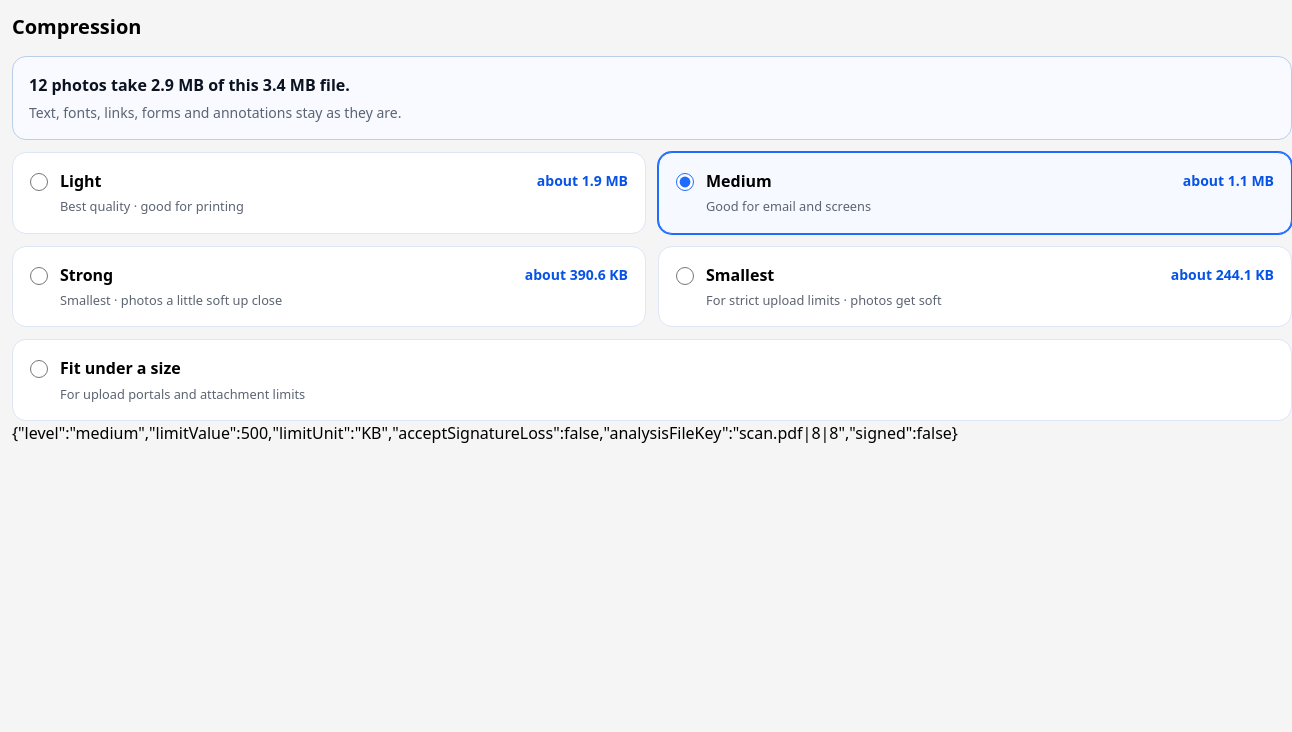
CompressOptions › offers Fit presets, custom validation and the gentlest recommendation
This screenshot has width=1292, height=732.
Expected: the text "about 1.1 MB" is shown, [1183,170,1274,191]
Click the radio button labelled "Fit under a size For upload portals and attachment limits" at (39, 370), box [30,360,48,378]
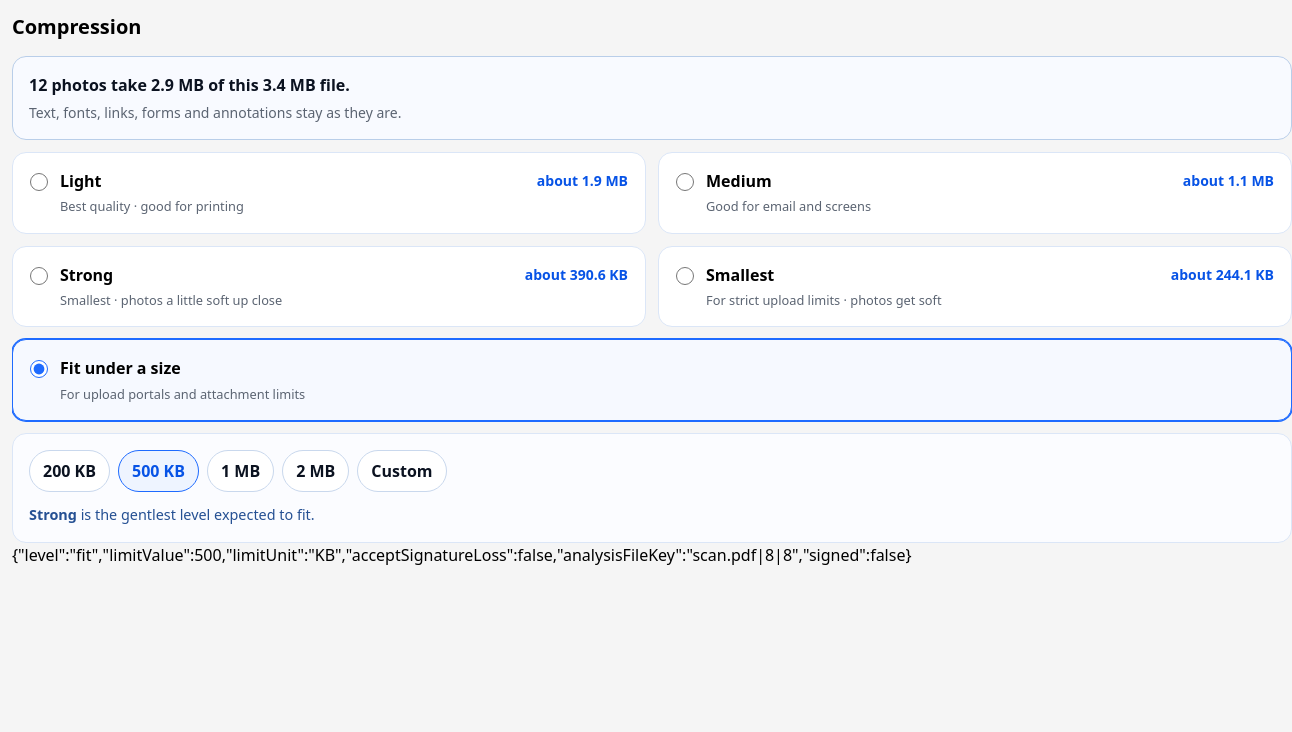
Expected: the button "200 KB" is shown, [29,450,110,492]
Expected: the button "500 KB" is shown, [118,450,199,492]
Expected: the button "1 MB" is shown, [207,450,274,492]
Click the button "Custom" at (402, 471), box [357,450,446,492]
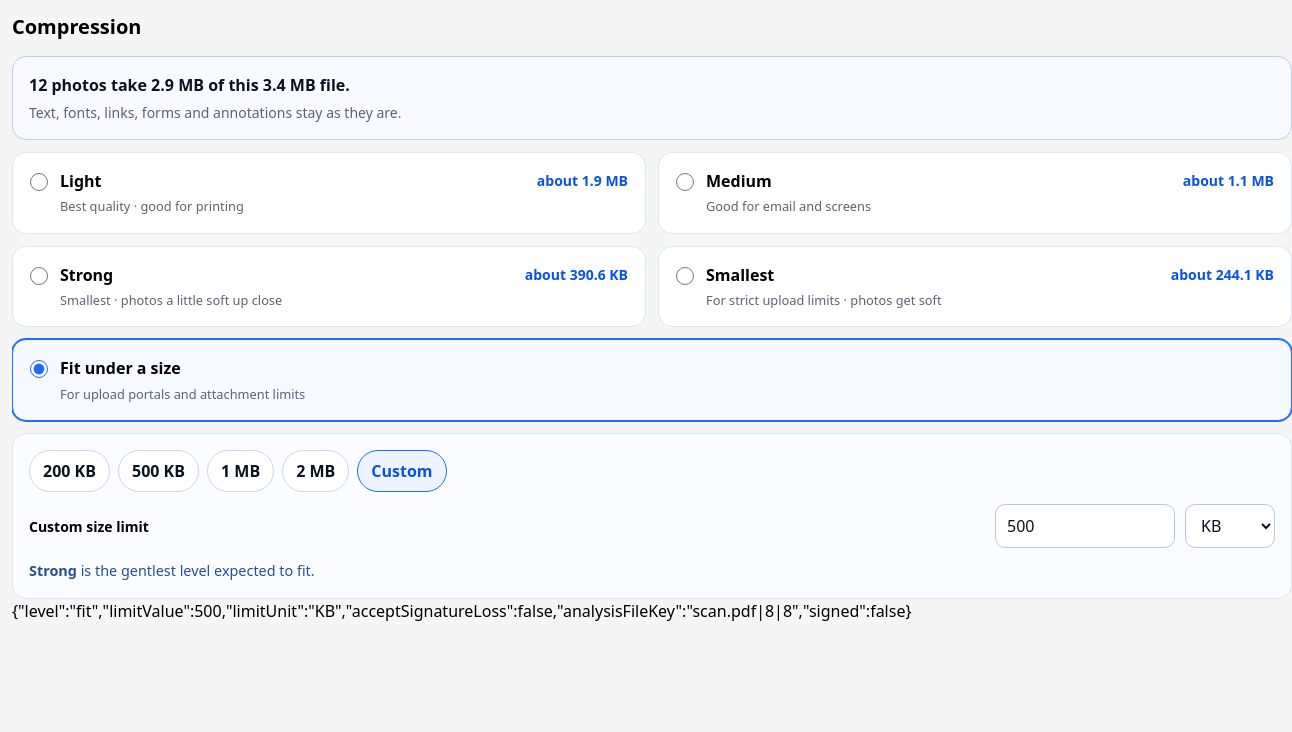
Replace the text in the number field labelled "Custom size limit" with "10" at (1085, 526), box [995,504,1175,548]
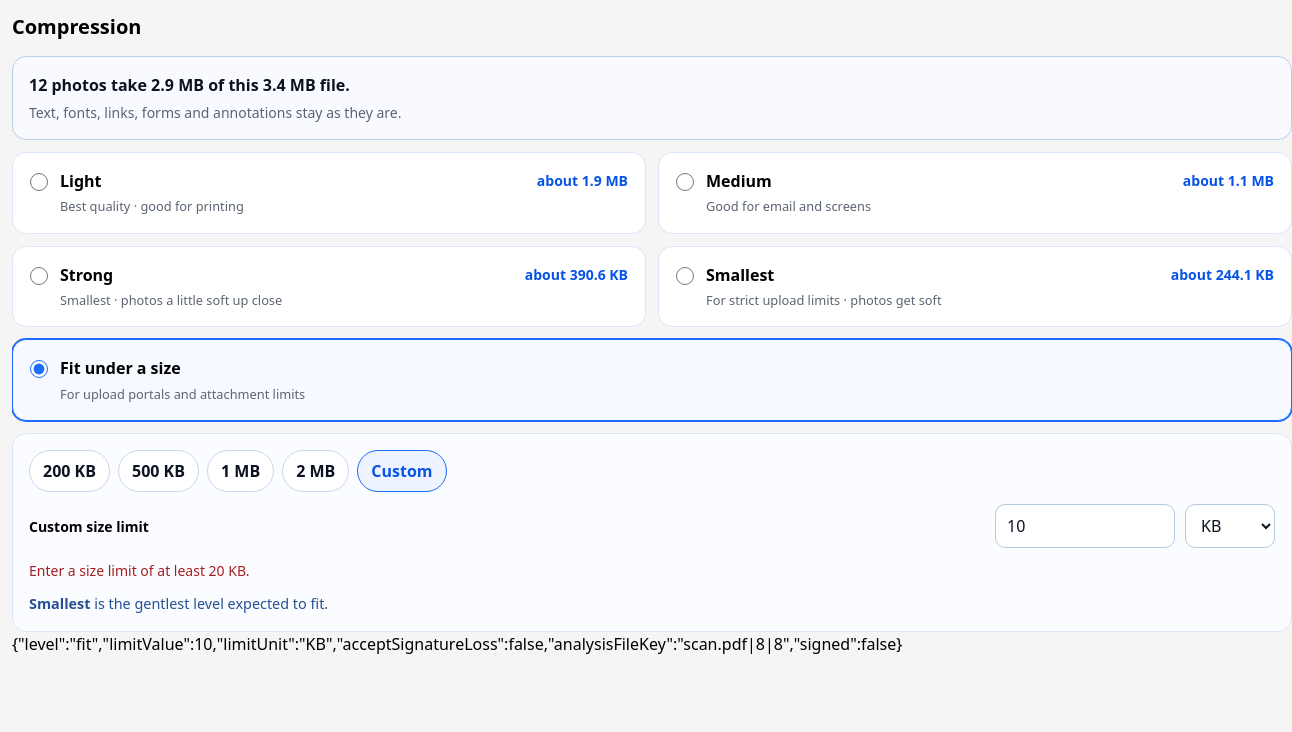
Expected: the message "Enter a size limit of at least 20 KB." is shown, [29,561,250,580]
Replace the text in the number field labelled "Custom size limit" with "600" at (1085, 526), box [995,504,1175,548]
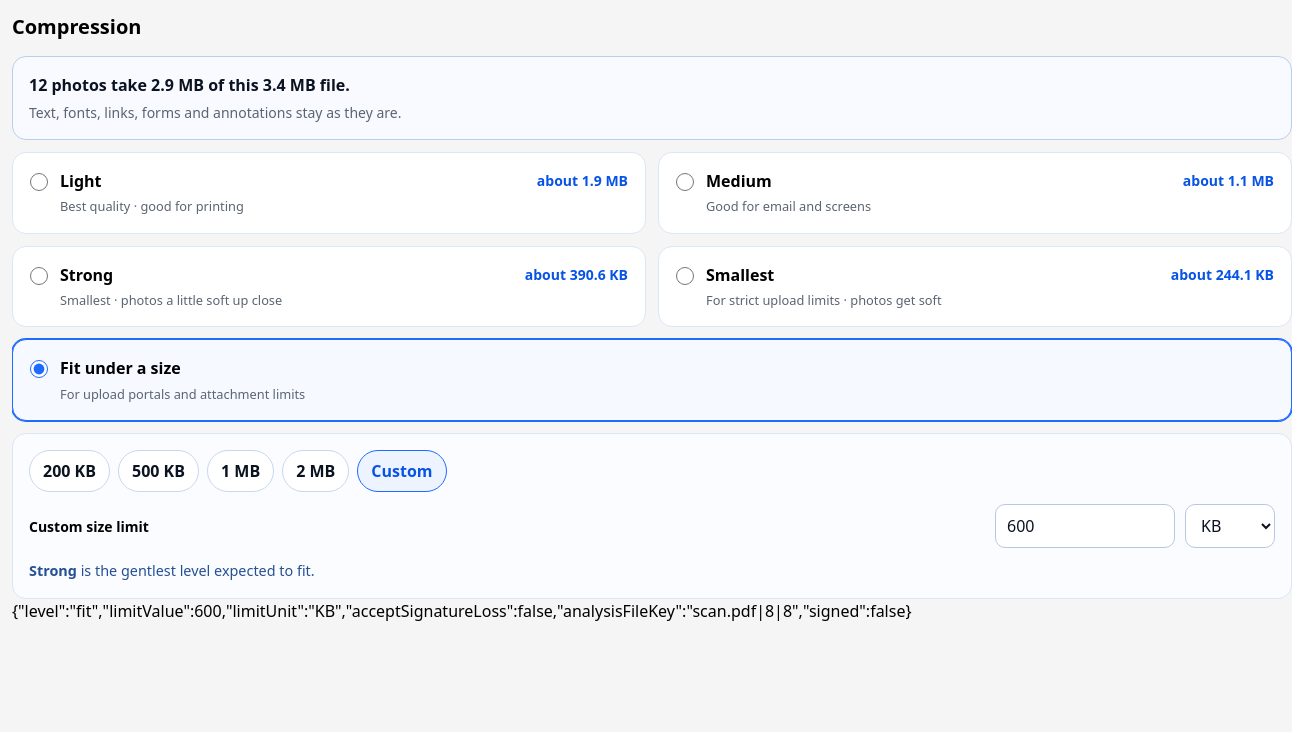
Expected: the dropdown named "Size unit" is shown, [1185,504,1275,548]
Expected: the message "Enter a size limit of at least 20 KB." is gone
